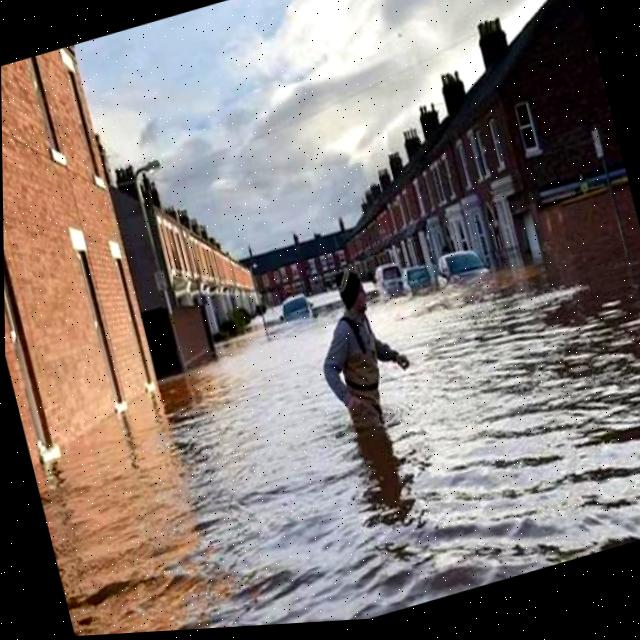civilian: (285, 247, 437, 467)
